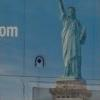Statue: (47, 3, 92, 77)
